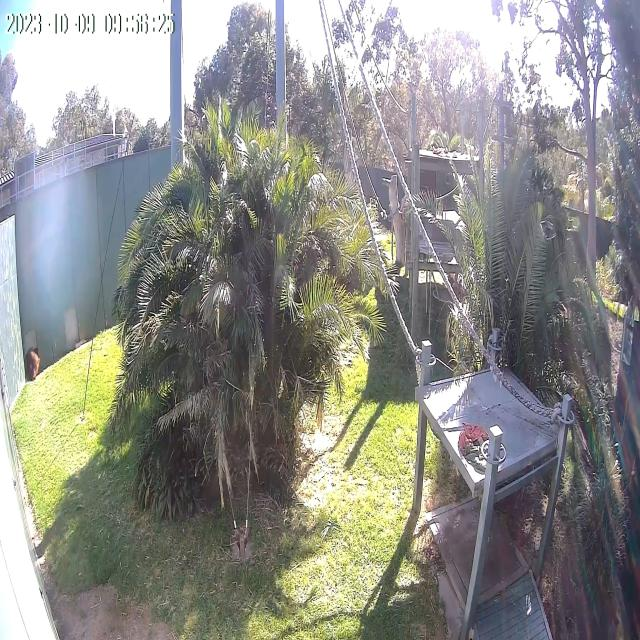orangutan: (26, 349, 40, 384)
